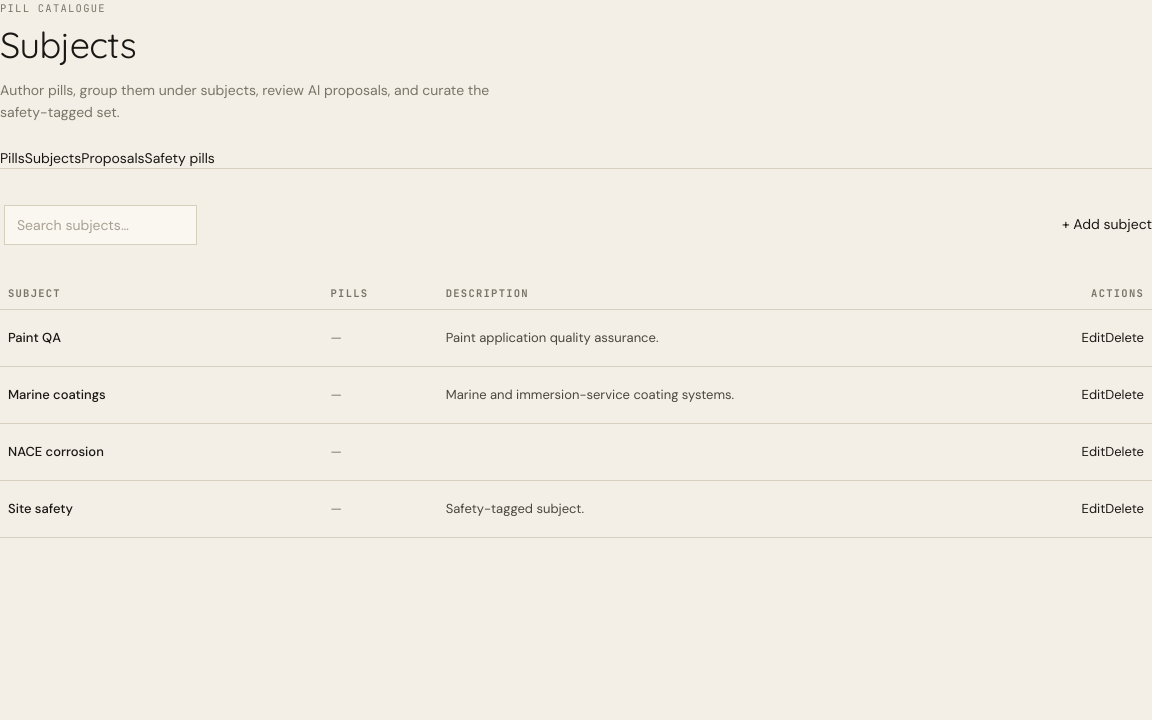
subjects tab — create modal › creates a subject via POST and closes the modal
The width and height of the screenshot is (1152, 720).
Click the button with test id "subjects-add-button". click: (1107, 225)
box: x1=1062 y1=205 x2=1151 y2=245
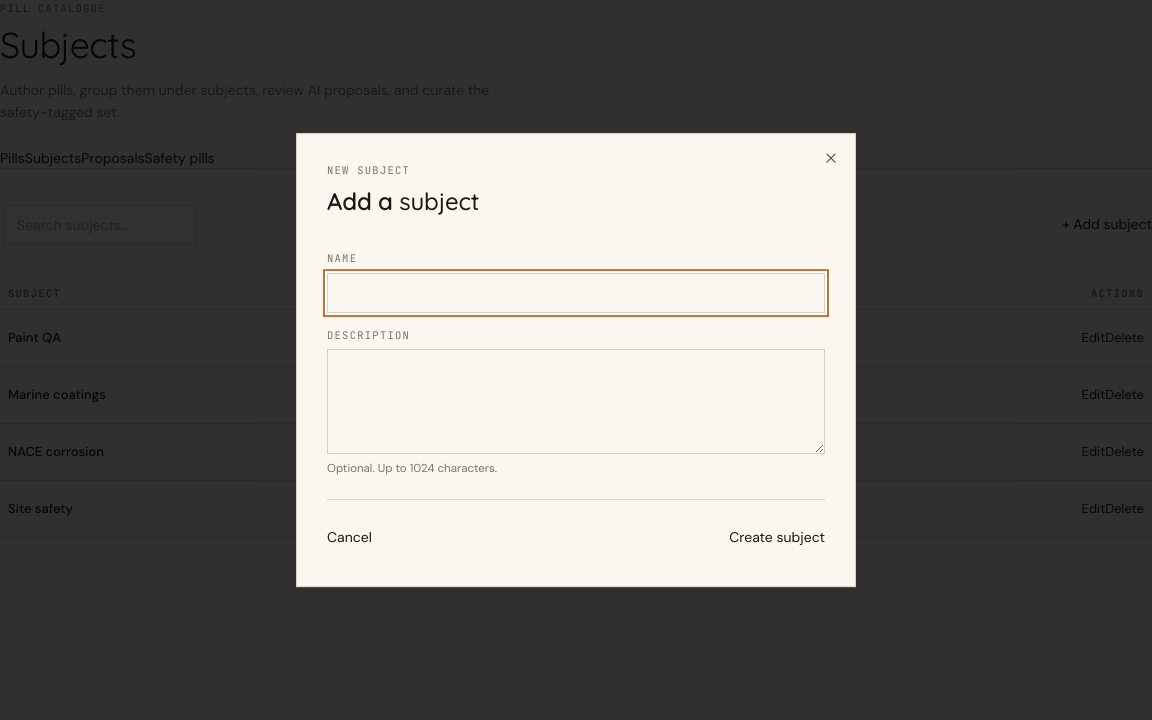
Now the form with test id "subject-modal-form" is shown, box x1=327 y1=250 x2=825 y2=558
Type "Welding" into the field with test id "subject-modal-name". click: (576, 293)
box: x1=327 y1=273 x2=825 y2=313
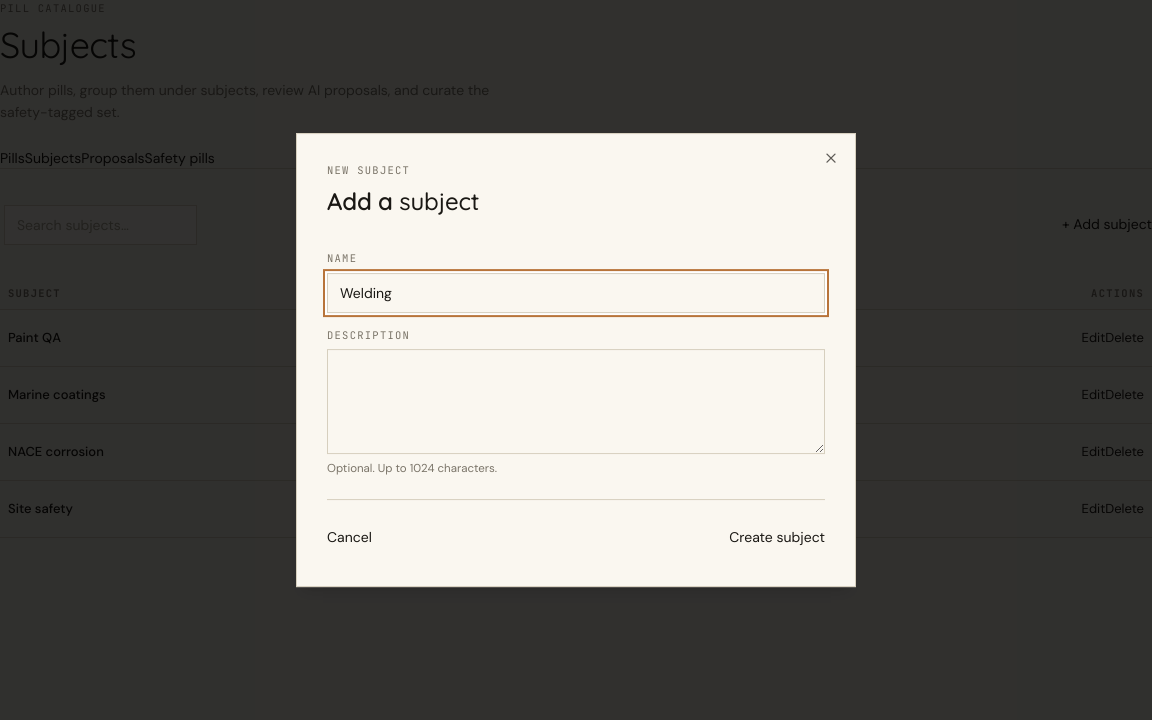
Click the button with test id "subject-modal-submit". click: (777, 538)
box: x1=729 y1=518 x2=825 y2=558
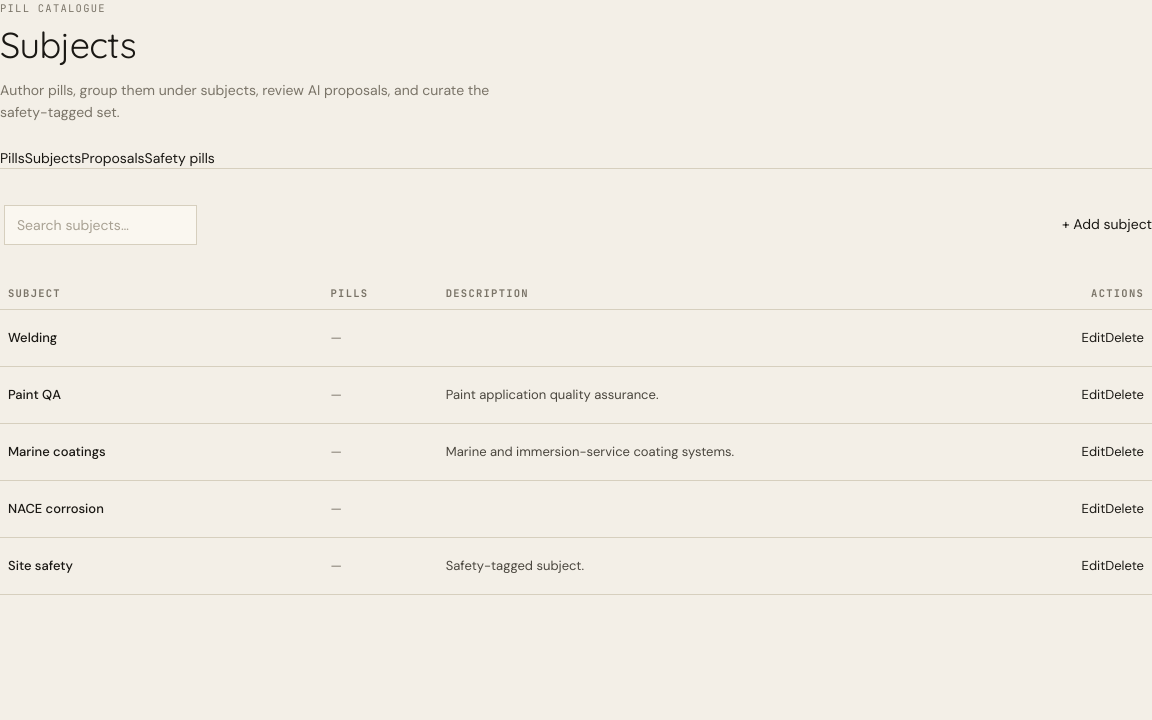
Now the form with test id "subject-modal-form" is gone
